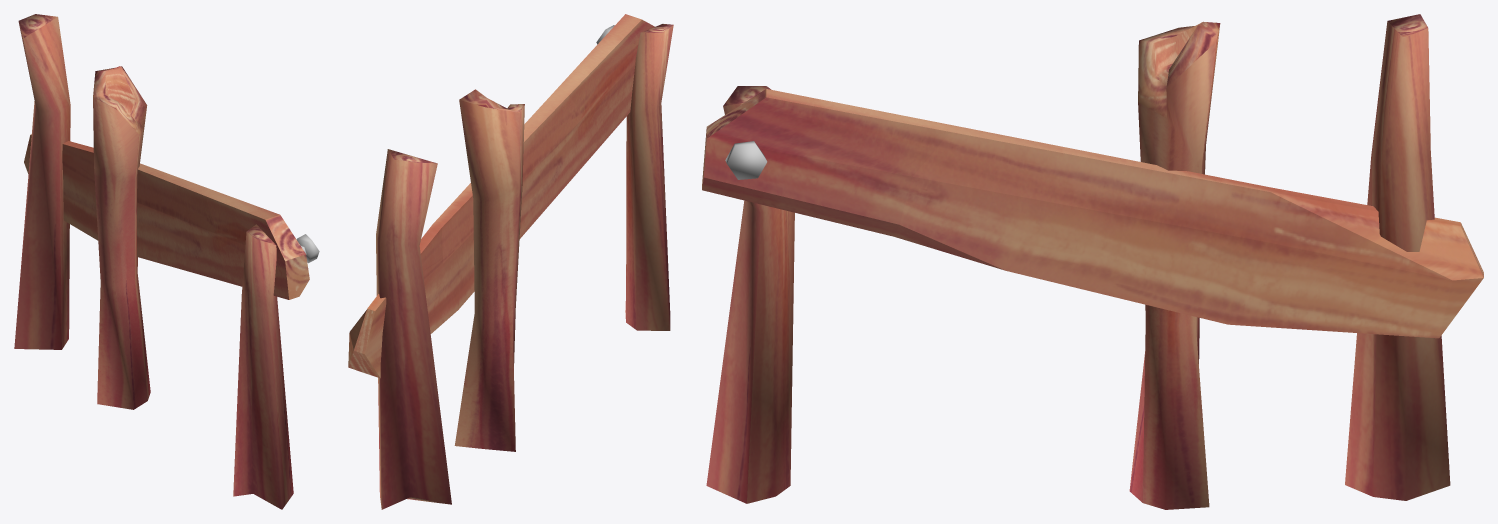
File: m_fence_01.fbx
3 views of the same model, side by side, from view 1: azimuth 30°, elevation 25°; view 2: azimuth 150°, elevation 25°; view 3: azimuth 270°, elevation 25° (orthographic). The views are drawn at different scales.
Parts seen in each view (by area): view 1: m_fence_01; view 2: m_fence_01; view 3: m_fence_01.
Part boxes in pixels (<box>): m_fence_01: <box>14,14,319,509</box>; m_fence_01: <box>348,14,673,509</box>; m_fence_01: <box>702,14,1483,509</box>.
Bounding box in the file's own units: 26.55 × 101 × 151.
